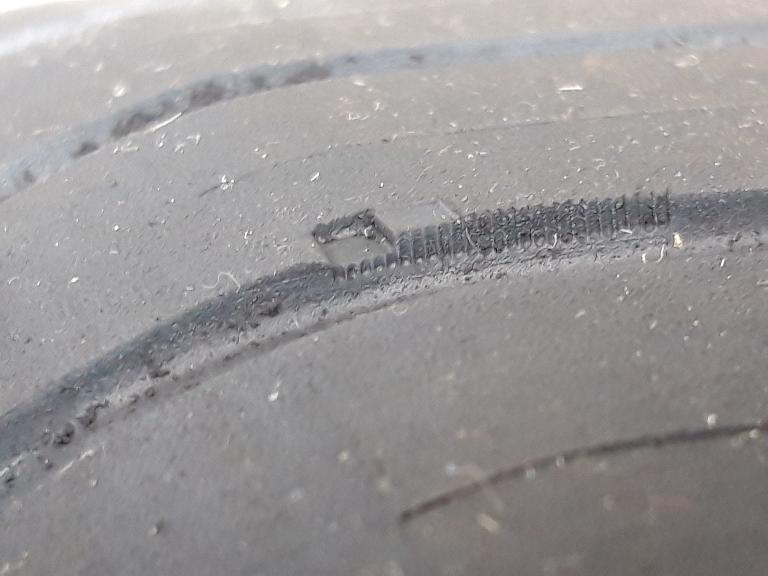temoin:25: (301, 190, 476, 299)
